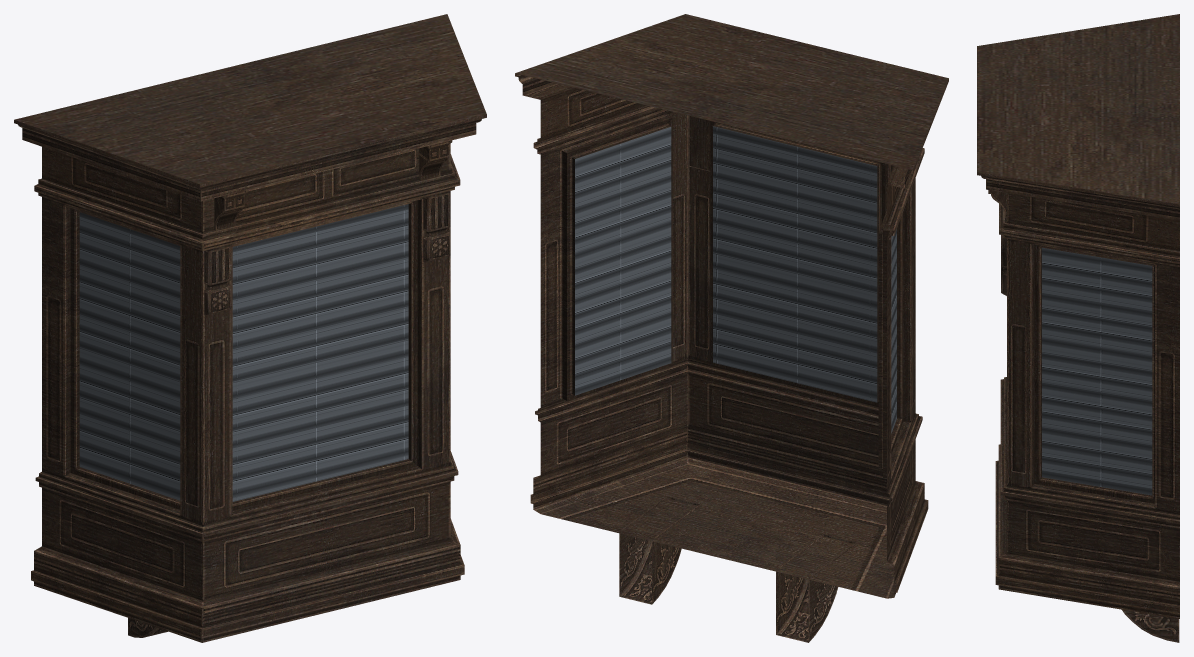
The model's file is Bay_Window_01.fbx.
3 views of the same model, side by side, from view 1: azimuth 30°, elevation 25°; view 2: azimuth 150°, elevation 25°; view 3: azimuth 270°, elevation 25° (orthographic). The views are drawn at different scales.
Visible parts, largest first — view 1: Bay_Window_01_LOD0; view 2: Bay_Window_01_LOD0; view 3: Bay_Window_01_LOD0.
Part boxes in pixels (x1=…): Bay_Window_01_LOD0: x1=14, y1=14, x2=486, y2=642; Bay_Window_01_LOD0: x1=515, y1=14, x2=948, y2=642; Bay_Window_01_LOD0: x1=977, y1=14, x2=1179, y2=642.
Size of what is drawn, in the model's own units: 271 by 325 by 122.
